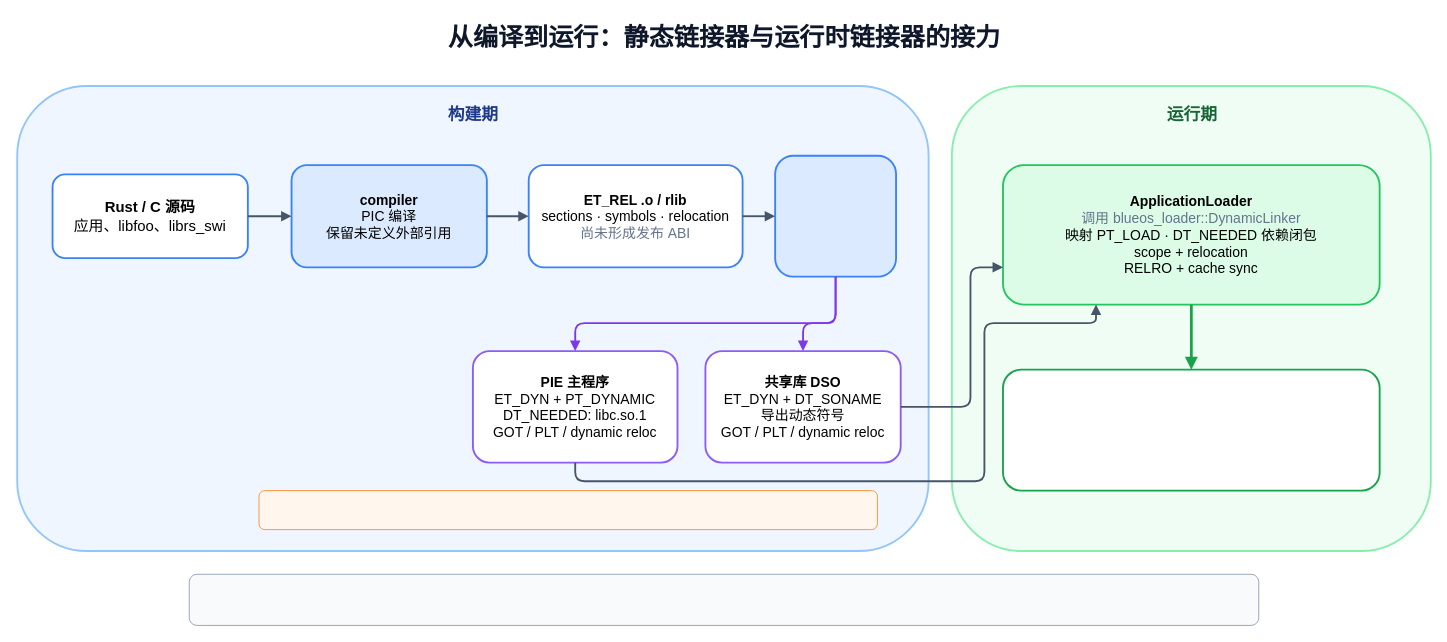
Some shapes in this 1447 by 642 pixel diagram are drawn without their labels. Each missing label, with the centre of its shape:
static linker 合并 section 解决镜像内可确定引用 保留运行时未知项: pixel 835 215
已绑定运行映像 确定 load bias 与符号地址 发布 LinkMap / InitPlan 进入 blueos_scrt1 → main: pixel 1191 429
稳定边界：C ABI Rust core/alloc/std 首期静态 PIC；不把 Rust dylib ABI 暴露为系统 ABI: pixel 723 599
运行时未知项：装载地址、跨 DSO 符号、GOT/PLT 槽: pixel 567 510
